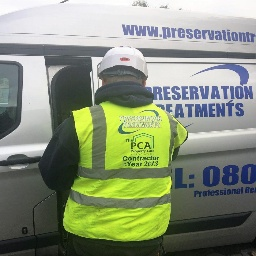helmet: (88, 45, 163, 84)
person: (38, 44, 191, 252)
vest: (59, 103, 188, 244)
